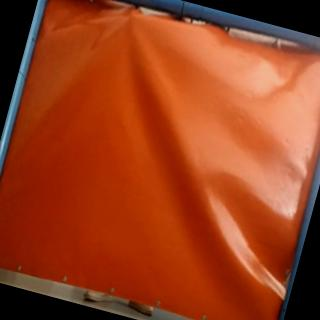Hit-hRxx: (126, 7, 146, 24)
